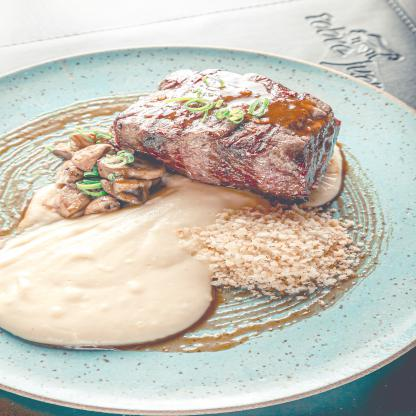Carne: (107, 64, 338, 198)
